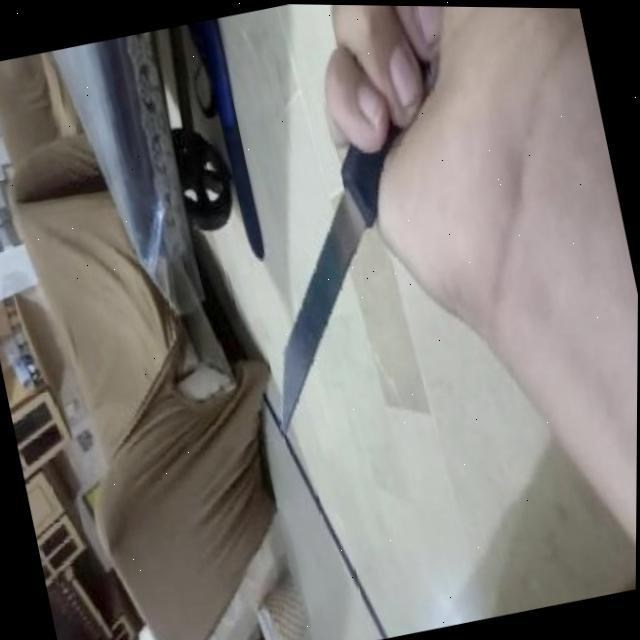knife: (227, 136, 436, 436)
